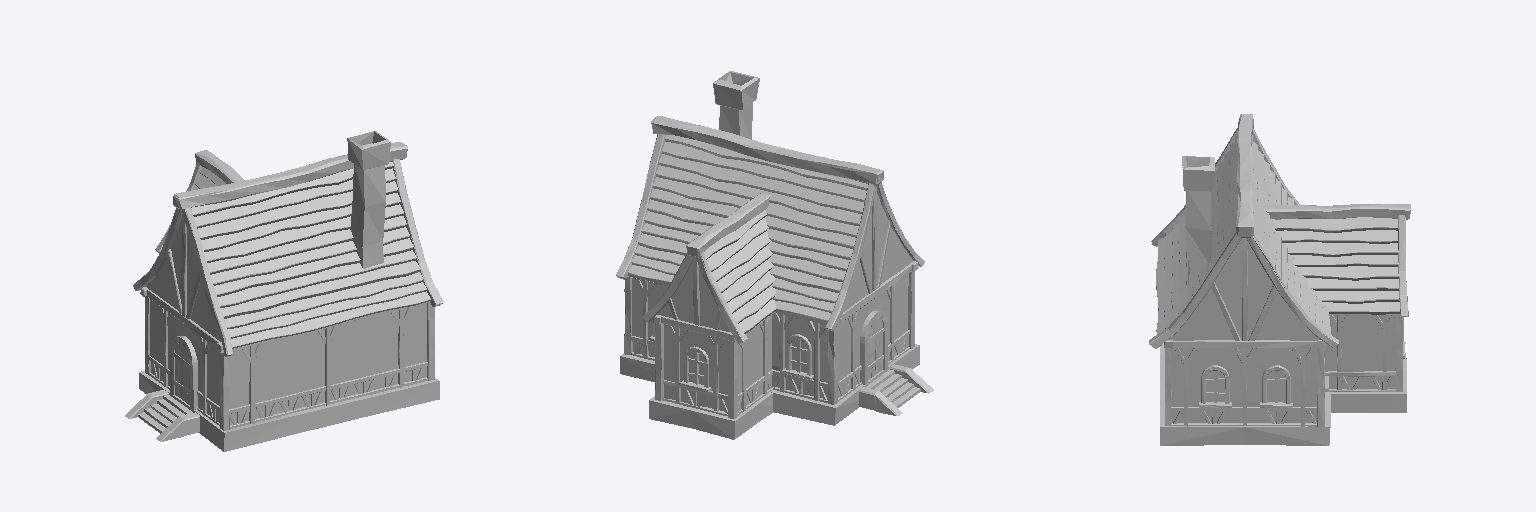
File: medieval_building.obj
The picture shows the model from 3 angles: view 1: azimuth 30°, elevation 25°; view 2: azimuth 150°, elevation 25°; view 3: azimuth 270°, elevation 25°; orthographic projection.
Parts seen in each view (by area): view 1: Building_12_Cube.445; view 2: Building_12_Cube.445; view 3: Building_12_Cube.445.
Boxes of the visible parts, box(x1,y1,x2,y2) form: Building_12_Cube.445: box(125, 131, 443, 451); Building_12_Cube.445: box(616, 71, 933, 439); Building_12_Cube.445: box(1149, 114, 1410, 445).
Size of the model in its own units: 24.02 by 22.79 by 20.79.